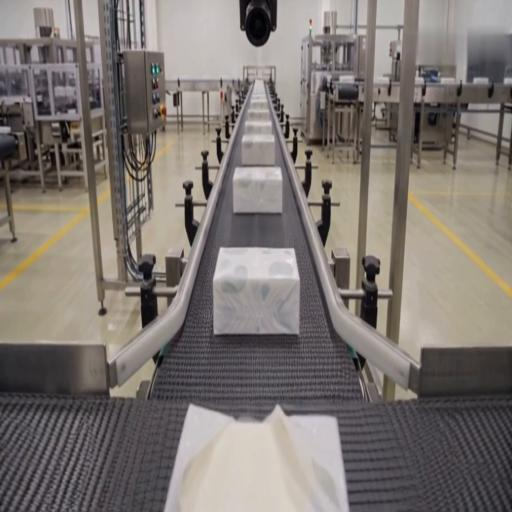defective: (166, 401, 348, 512), (213, 246, 300, 336)
good: (232, 166, 283, 216), (239, 132, 276, 167), (243, 120, 272, 136), (245, 107, 271, 122), (247, 96, 270, 111), (248, 84, 269, 99)
